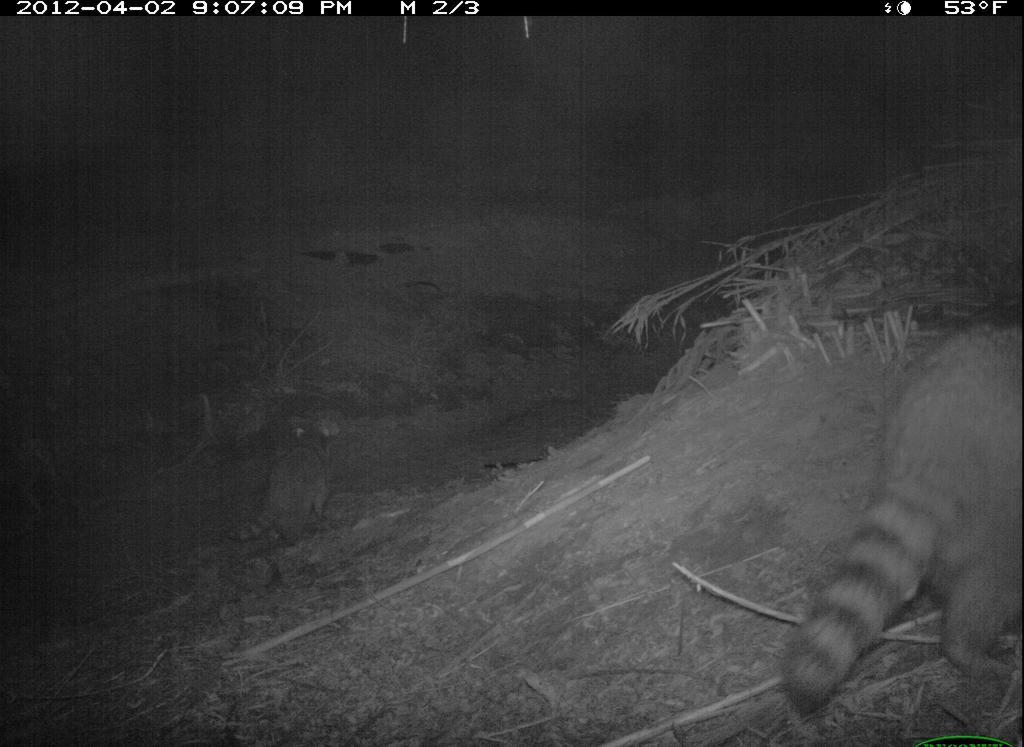raccoon: (772, 287, 1021, 729)
